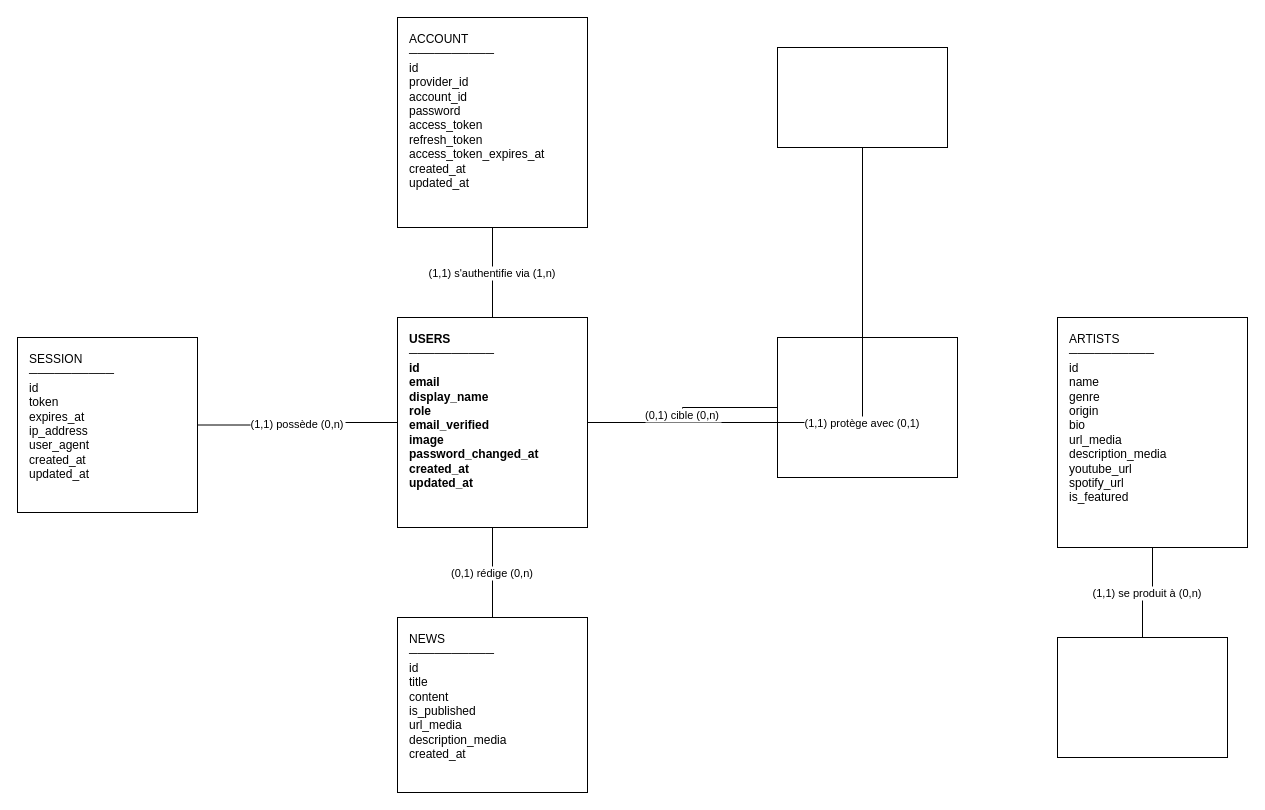
The diagram is 1265 pixels wide and 810 high, and some of its shapes have lost their labels. Here are the shapes that lost their labels. From the top down, the box of each, then its label:
(776, 46, 948, 148): TWO_FACTOR ────────── id secret backup_codes
(776, 336, 958, 478): VERIFICATION ────────── id identifier value expires_at created_at
(1056, 636, 1228, 758): CONCERTS ────────── id stage start_time end_time
